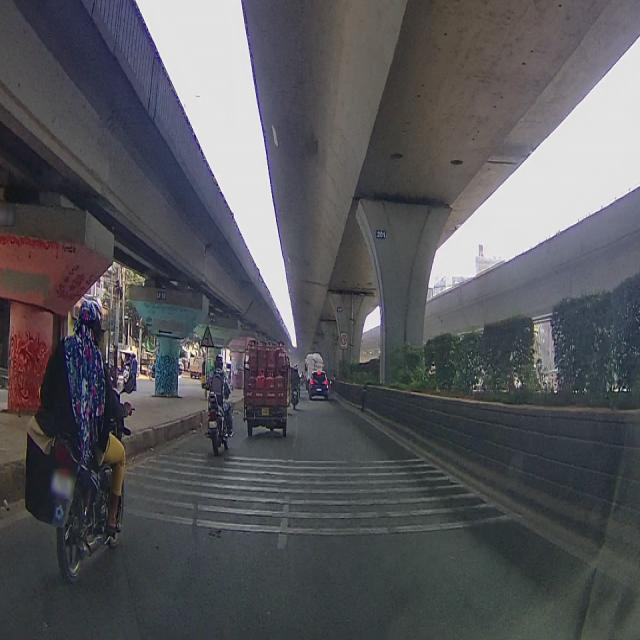side-road-left: (199, 325, 215, 349)
